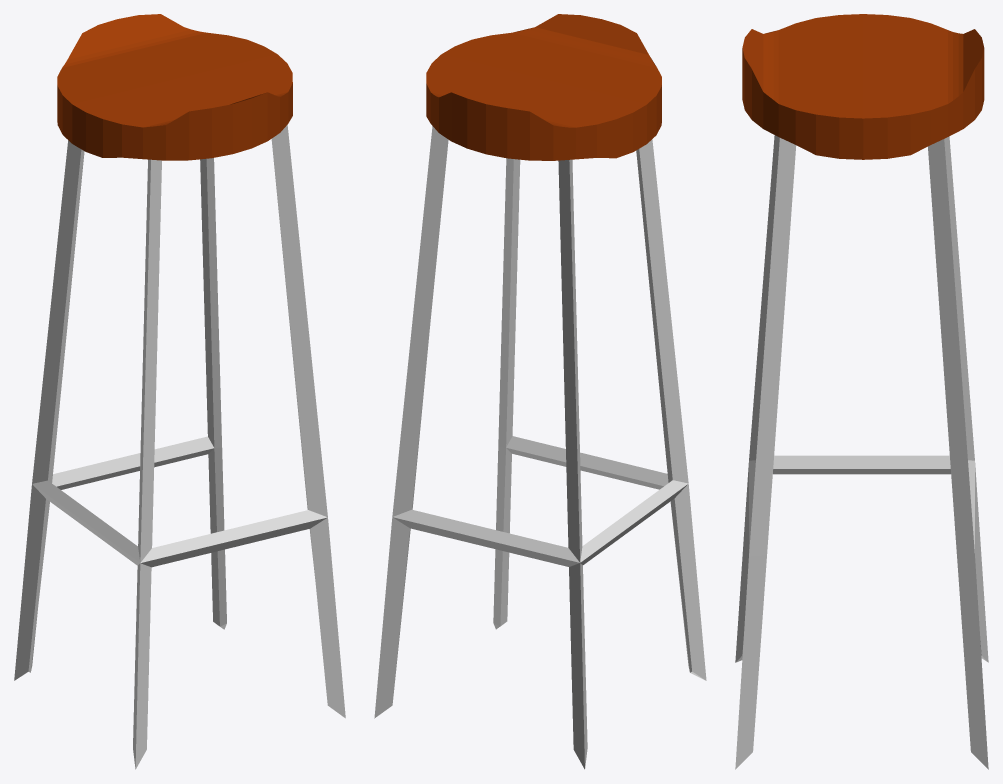
File: barchair3.glb
3 renders of one model, left to right at view 1: azimuth 30°, elevation 25°; view 2: azimuth 150°, elevation 25°; view 3: azimuth 270°, elevation 25°, orthographic. The views are drawn at different scales.
Visible parts, largest first — view 1: barchair3; view 2: barchair3; view 3: barchair3.
Boxes of the visible parts, x1,y1,x2,y2 form: barchair3: (14, 14, 345, 769); barchair3: (374, 14, 706, 769); barchair3: (735, 14, 988, 769).
Bounding box in the file's own units: 0.1461 × 0.4206 × 0.1449.
